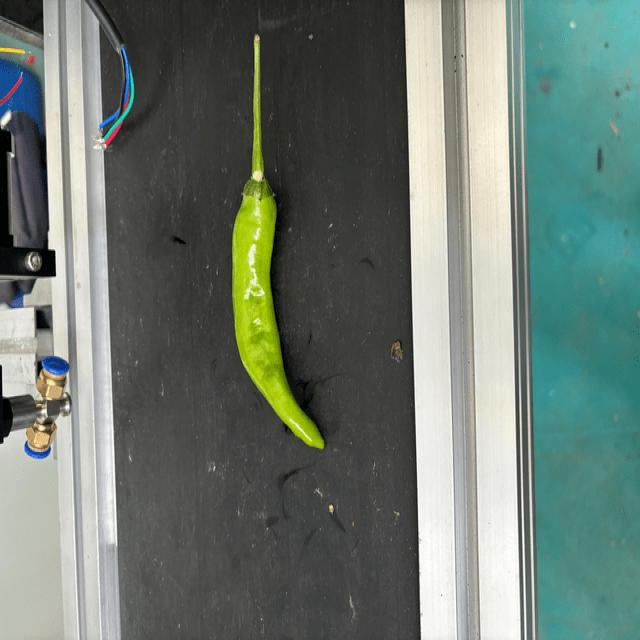chili: (229, 178, 330, 451)
